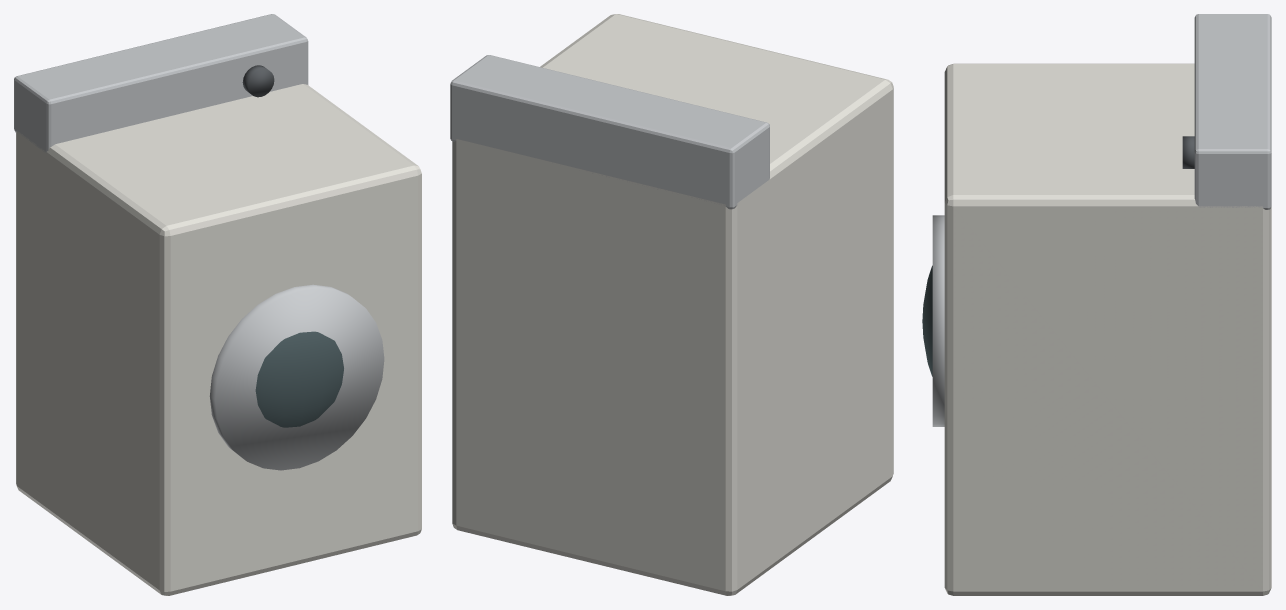
The model's file is washing_machine.glb.
3 renders of one model, left to right at view 1: azimuth 30°, elevation 25°; view 2: azimuth 150°, elevation 25°; view 3: azimuth 270°, elevation 25°, orthographic. The views are drawn at different scales.
Parts seen in each view (by area): view 1: WasherBody, ControlHeader, DoorRing, DrumGlass, ProgramDial; view 2: WasherBody, ControlHeader; view 3: WasherBody, ControlHeader, DoorRing, DrumGlass.
Part boxes in pixels (left/top/right/bottom): WasherBody: left=16, top=84, right=421, bottom=595; ControlHeader: left=14, top=14, right=308, bottom=152; DoorRing: left=209, top=284, right=384, bottom=470; DrumGlass: left=255, top=331, right=343, bottom=427; ProgramDial: left=242, top=65, right=274, bottom=97; WasherBody: left=452, top=14, right=893, bottom=595; ControlHeader: left=450, top=55, right=769, bottom=209; WasherBody: left=944, top=63, right=1271, bottom=595; ControlHeader: left=1194, top=14, right=1271, bottom=209; DoorRing: left=932, top=215, right=944, bottom=426; DrumGlass: left=922, top=265, right=932, bottom=376.
Bounding box in the file's own units: 0.68 × 1.03 × 0.7265.
